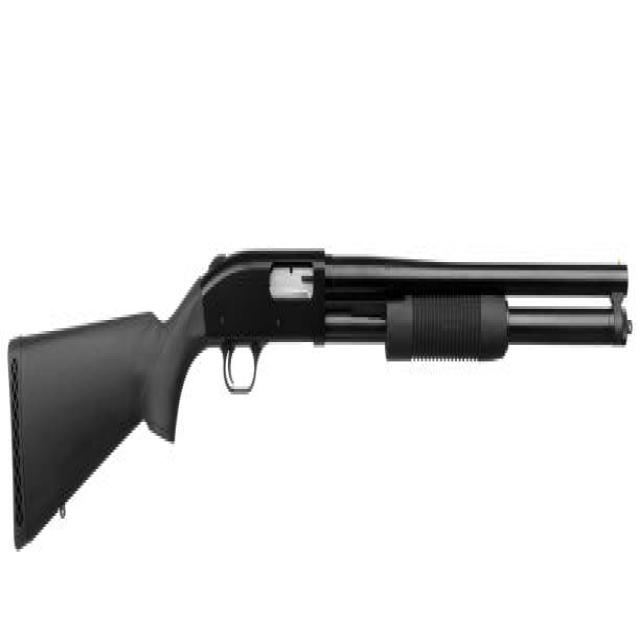rifle: (9, 189, 635, 564)
